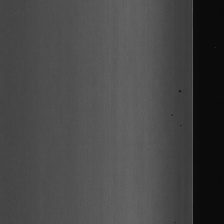oil_spot: (176, 85, 183, 96), (169, 107, 174, 118), (177, 119, 183, 128)
